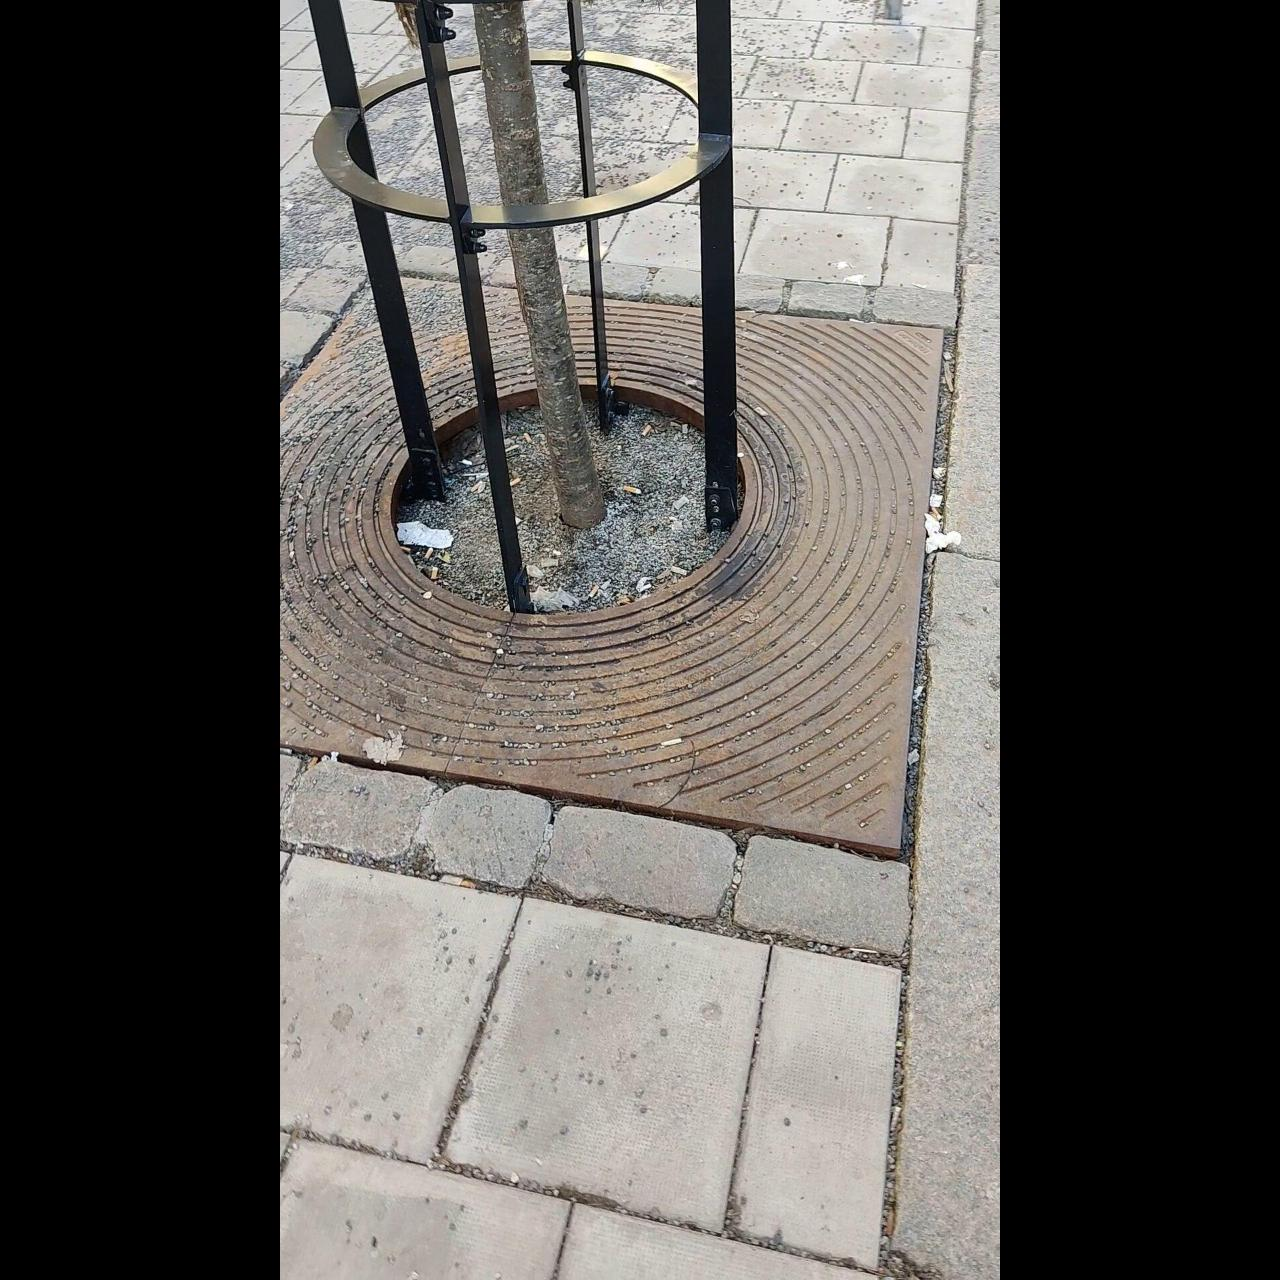cigarettes_butts: (622, 484, 638, 494), (470, 480, 482, 492), (934, 506, 942, 524), (428, 566, 438, 580), (588, 587, 598, 599), (399, 546, 413, 554), (425, 546, 433, 560), (511, 478, 523, 487), (641, 427, 649, 438), (524, 431, 532, 442)
others: (669, 563, 689, 577), (672, 496, 689, 510), (539, 557, 559, 567), (680, 422, 690, 436)
